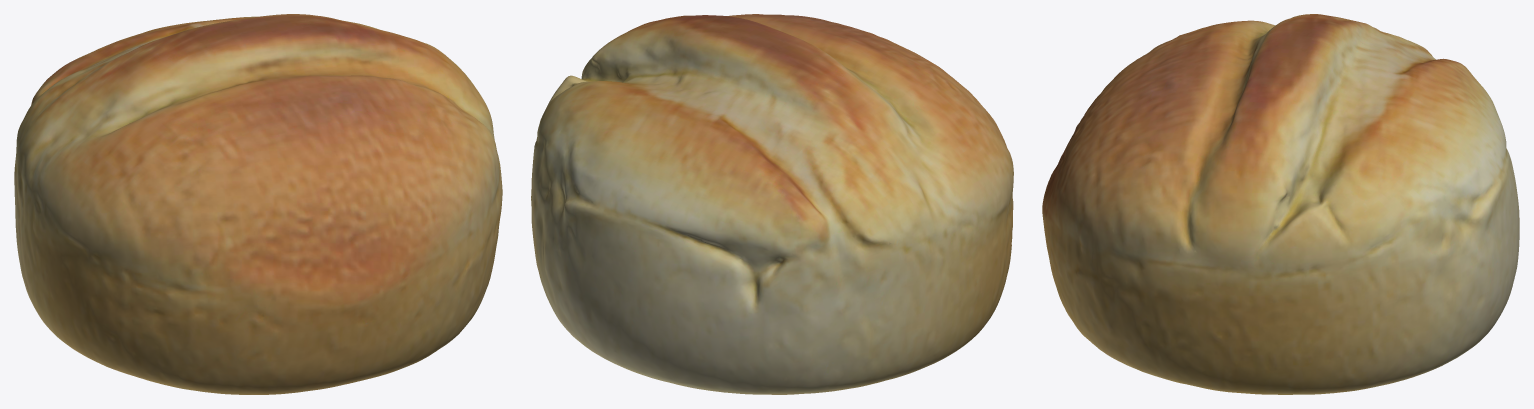
File: 7aa29f0f167c_Illustration_of_rou.fbx
3 views of the same model, side by side, from view 1: azimuth 30°, elevation 25°; view 2: azimuth 150°, elevation 25°; view 3: azimuth 270°, elevation 25° (orthographic).
Visible parts, largest first — view 1: high_poly; view 2: high_poly; view 3: high_poly.
Boxes of the visible parts, x1,y1,x2,y2 form: high_poly: (14, 14, 502, 394); high_poly: (531, 14, 1013, 394); high_poly: (1042, 14, 1519, 394).
Size of the model in its own units: 100 by 63.24 by 99.08.
